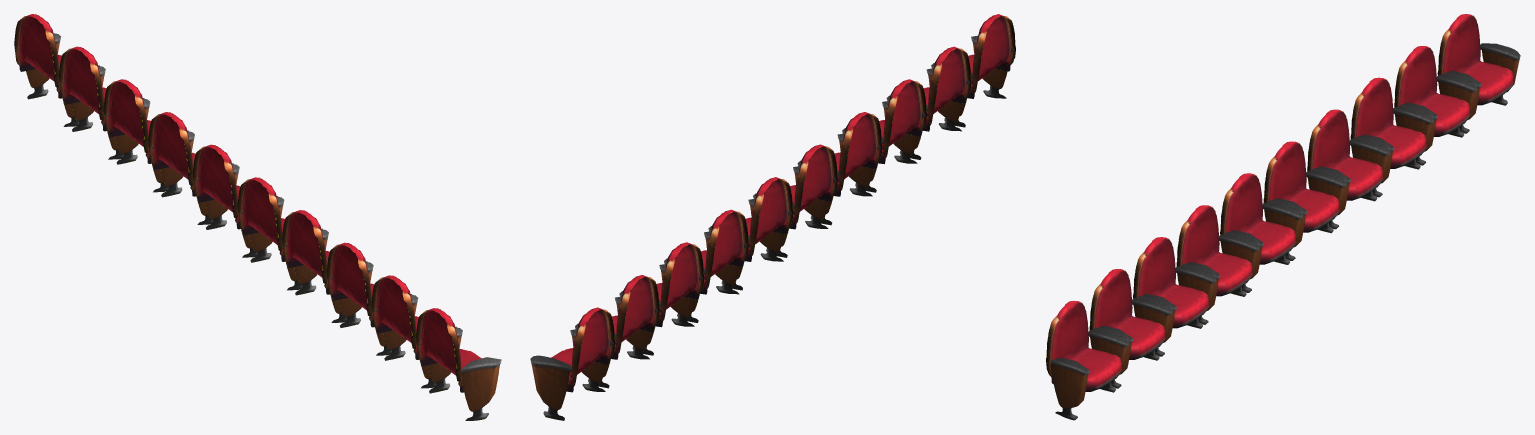
Rendered from chairs_left.fbx.
The picture shows the model from 3 angles, left to right: view 1: azimuth 30°, elevation 25°; view 2: azimuth 150°, elevation 25°; view 3: azimuth 330°, elevation 25°; orthographic projection. The views are drawn at different scales.
Visible parts, largest first — view 1: chair_theatre_left; view 2: chair_theatre_left; view 3: chair_theatre_left.
Part boxes in pixels (bbox=[...]): chair_theatre_left: bbox=[14, 14, 501, 420]; chair_theatre_left: bbox=[530, 14, 1015, 420]; chair_theatre_left: bbox=[1046, 14, 1520, 420].
Bounding box in the file's own units: 62.8 × 118 × 954.
2 materials, 2 textured.
